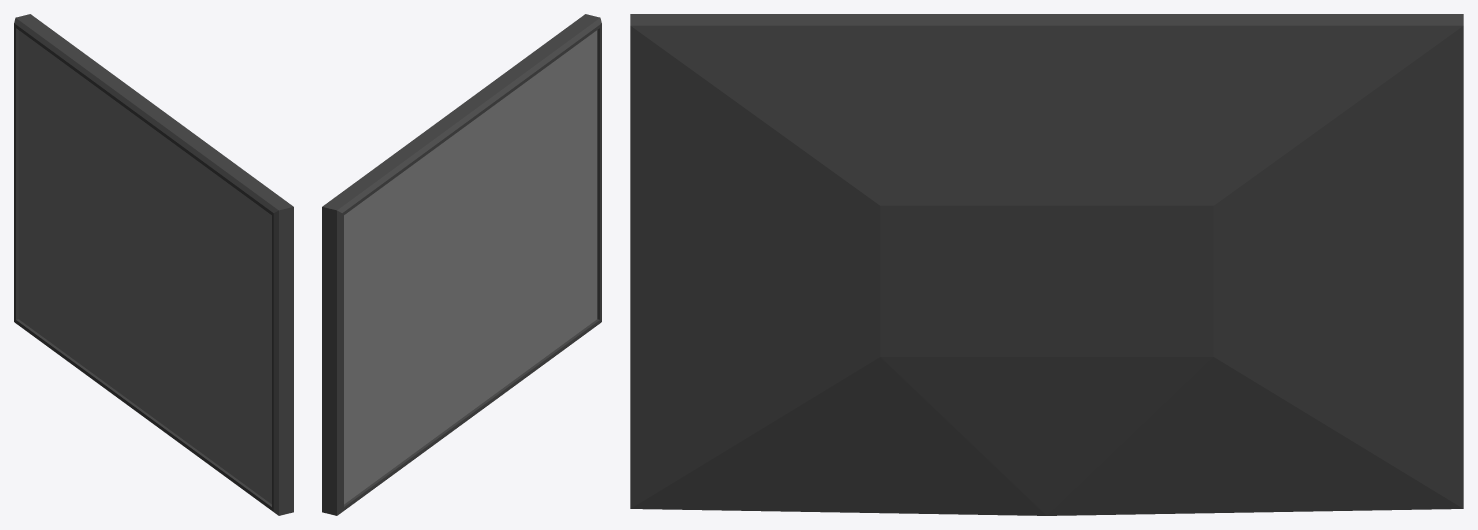
File: TV_Wall.fbx
3 views of the same model, side by side, from view 1: azimuth 30°, elevation 25°; view 2: azimuth 150°, elevation 25°; view 3: azimuth 270°, elevation 25° (orthographic). The views are drawn at different scales.
Visible parts, largest first — view 1: tv2_TV; view 2: tv2_TV; view 3: tv2_TV.
Part boxes in pixels (left/top/right/bottom): tv2_TV: left=14, top=14, right=293, bottom=515; tv2_TV: left=322, top=14, right=601, bottom=515; tv2_TV: left=630, top=14, right=1463, bottom=515.
Bounding box in the file's own units: 8 × 64 × 100.
1 material, 1 textured.
